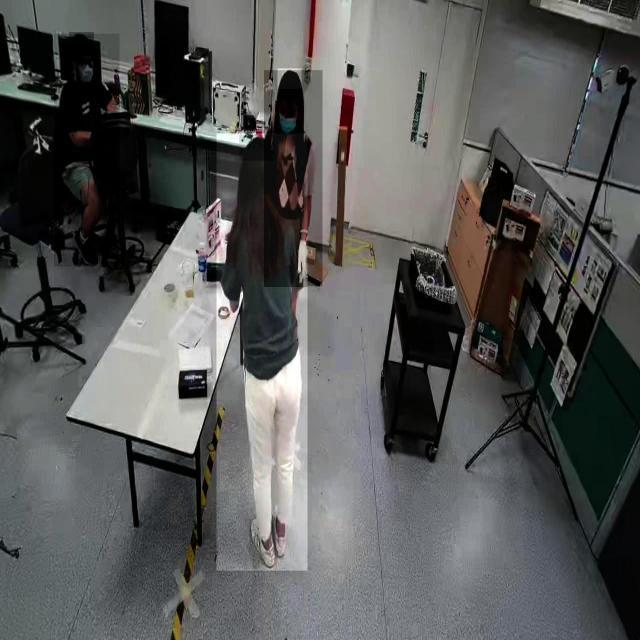boots: (250, 515, 276, 569), (273, 502, 290, 559)
